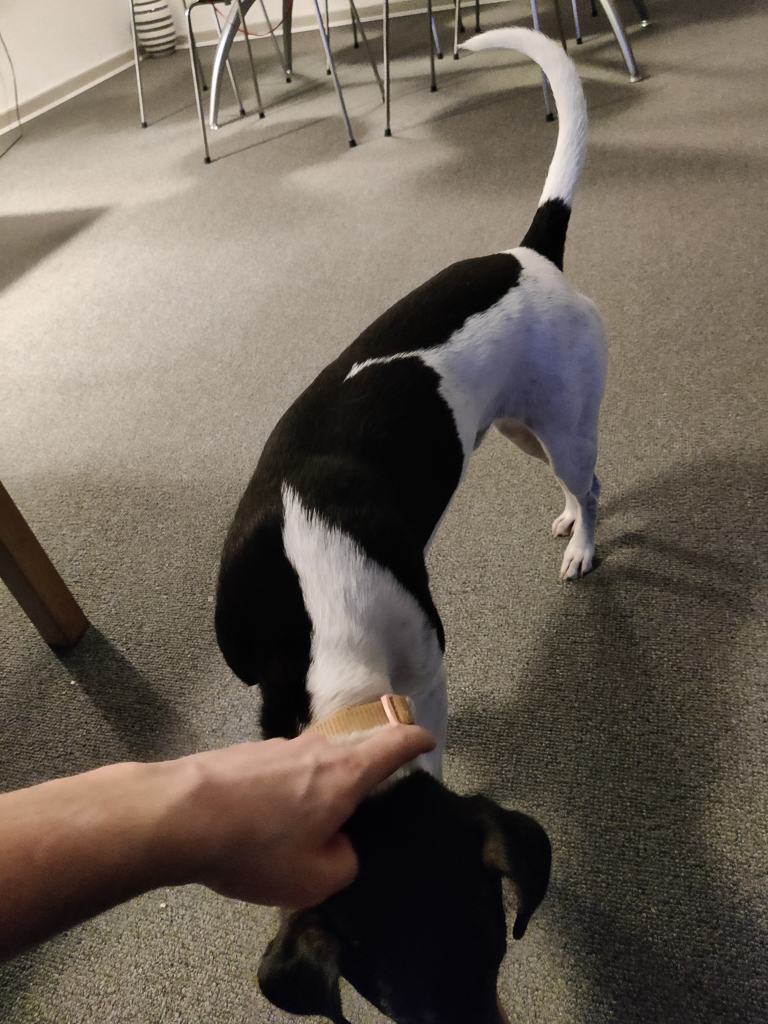Dog: (177, 14, 637, 1024)
Humanoid: (0, 681, 497, 987)
